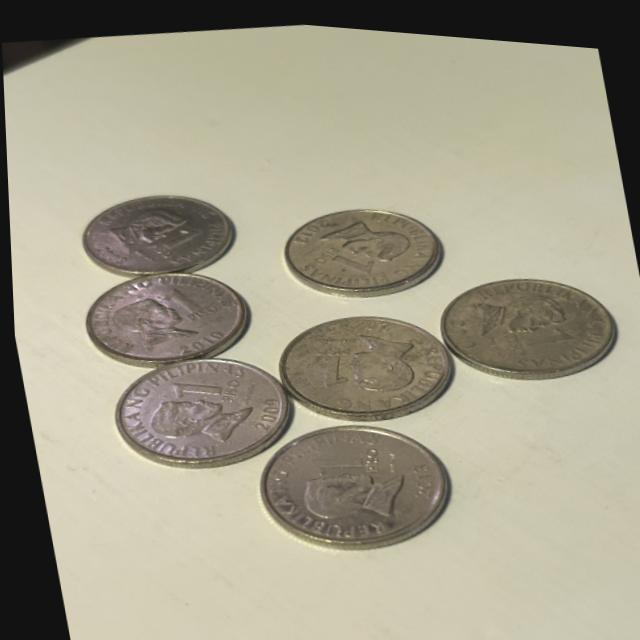1_Old_Front: (159, 358, 237, 410), (493, 311, 580, 357), (301, 435, 383, 479), (308, 232, 375, 282), (158, 276, 218, 330), (304, 330, 352, 386), (148, 220, 203, 261)
